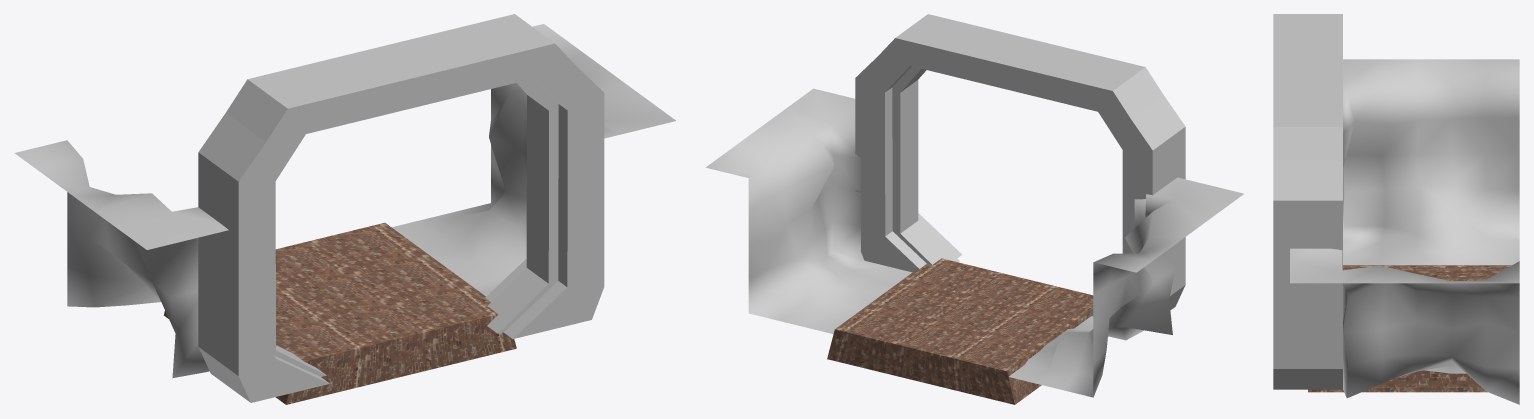
File: tile_tunnelconnector.fbx
The picture shows the model from 3 angles, left to right: view 1: azimuth 30°, elevation 25°; view 2: azimuth 150°, elevation 25°; view 3: azimuth 270°, elevation 25°; orthographic projection. The views are drawn at different scales.
Parts seen in each view (by area): view 1: tiletunnel5; view 2: tiletunnel5; view 3: tiletunnel5.
Part boxes in pixels (x1,y1,x2,y2): tiletunnel5: (14,14,675,404); tiletunnel5: (706,14,1243,404); tiletunnel5: (1273,14,1519,404).
Bounding box in the file's own units: 5000 × 2327 × 2845.
